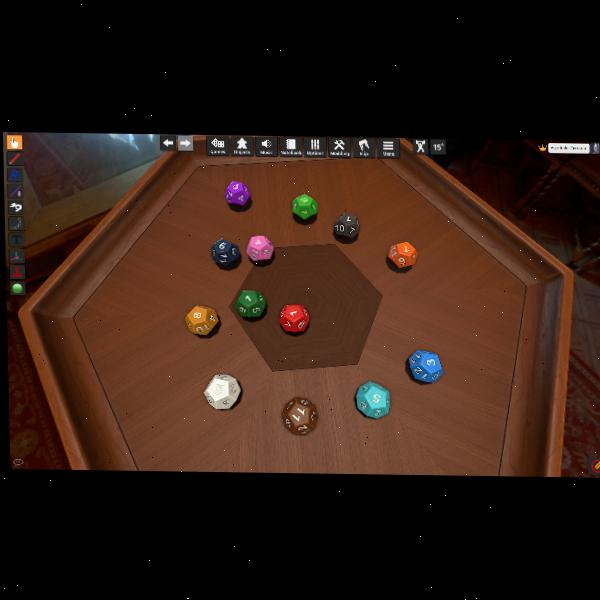d12: (280, 397, 318, 436), (355, 381, 389, 418), (204, 374, 240, 408), (411, 348, 443, 380), (186, 305, 218, 335), (279, 304, 309, 332), (235, 291, 266, 318), (210, 238, 239, 266), (246, 235, 273, 262), (224, 181, 251, 208), (388, 240, 413, 268), (333, 212, 359, 238), (292, 193, 317, 220), (430, 138, 446, 153)
